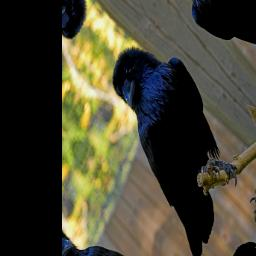Crow: (83, 11, 255, 256)
